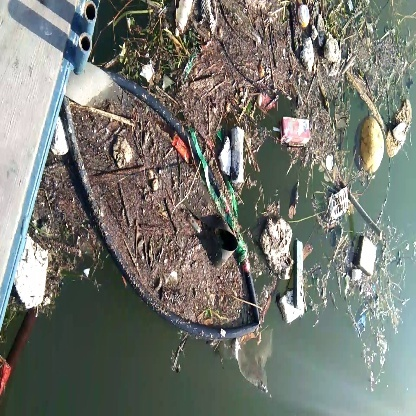milk-box: (278, 110, 319, 151)
